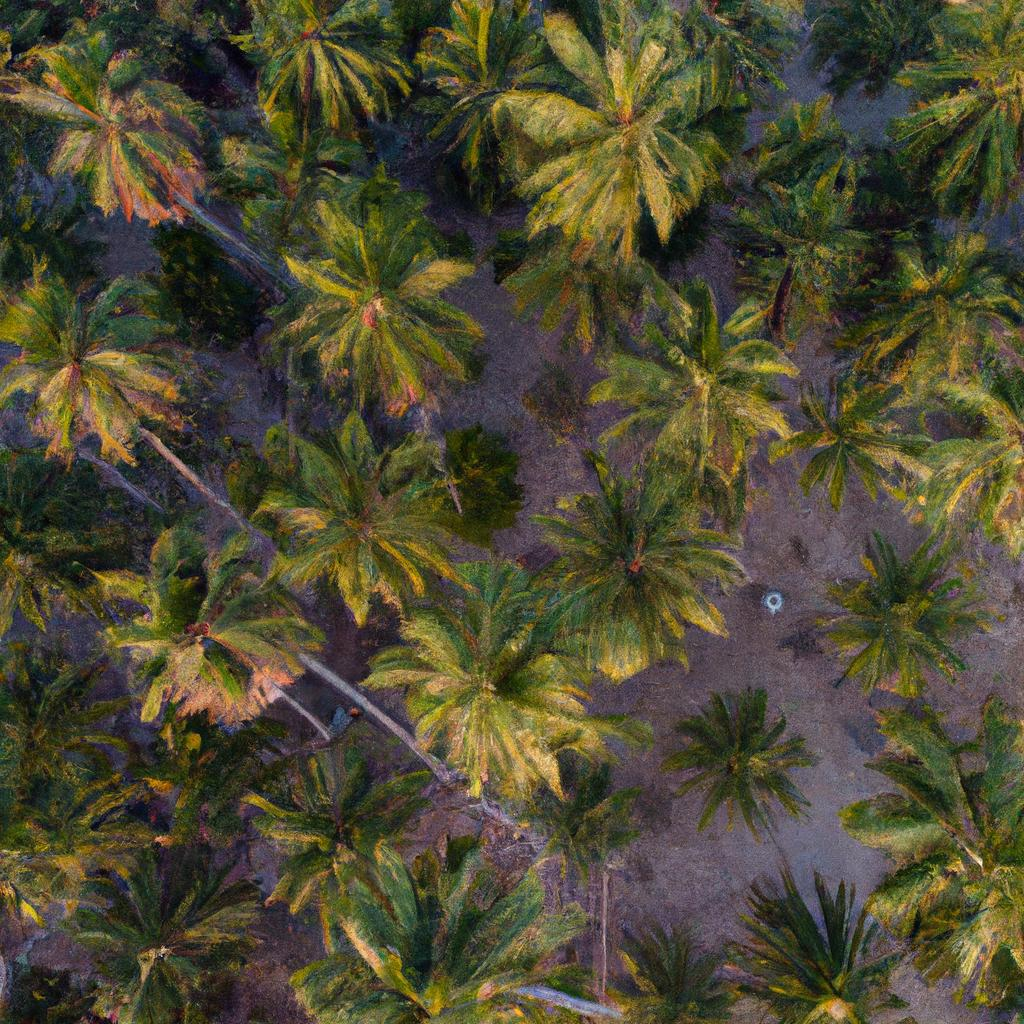coconut_tree: (357, 559, 620, 815), (476, 12, 741, 248), (263, 191, 508, 442), (74, 528, 322, 762), (214, 420, 516, 612), (0, 7, 249, 234), (0, 254, 217, 489), (532, 448, 738, 661), (585, 297, 806, 477), (806, 526, 992, 724), (632, 667, 838, 842), (239, 740, 428, 924)
